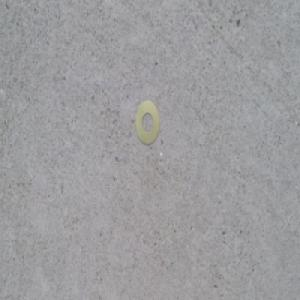Washer: (134, 97, 161, 146)
